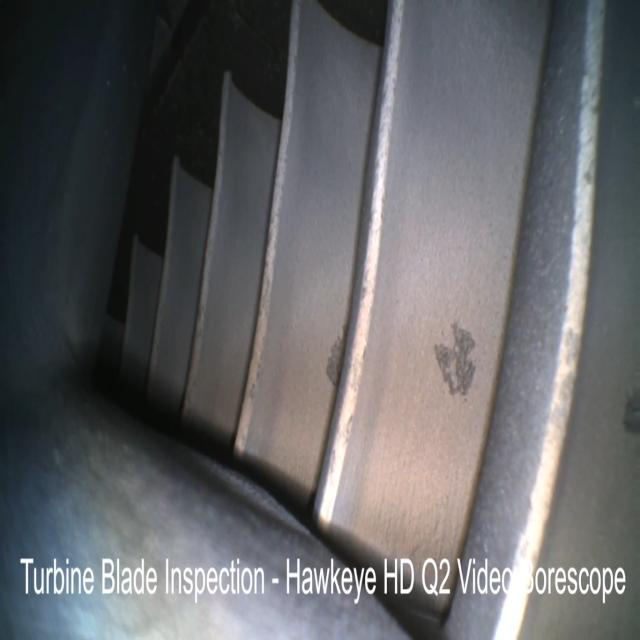burn: (433, 310, 479, 399)
turbine_blade: (326, 3, 554, 551)
